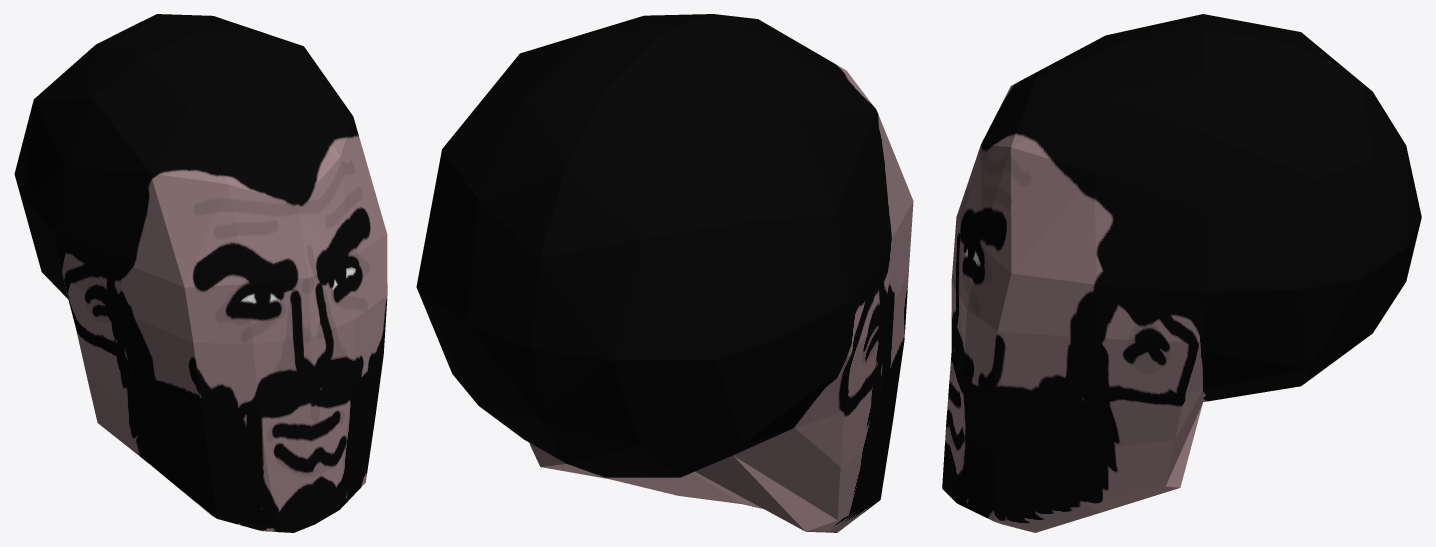
File: Avatar_head.fbx
3 views of the same model, side by side, from view 1: azimuth 30°, elevation 25°; view 2: azimuth 150°, elevation 25°; view 3: azimuth 270°, elevation 25° (orthographic). The views are drawn at different scales.
Parts seen in each view (by area): view 1: Head; view 2: Head; view 3: Head.
Part boxes in pixels (<box>): Head: <box>14,14,387,532</box>; Head: <box>416,14,913,532</box>; Head: <box>942,14,1421,532</box>.
Bounding box in the file's own units: 0.5626 × 0.8174 × 0.7323.
Materials: 1 (1 with a texture image).
